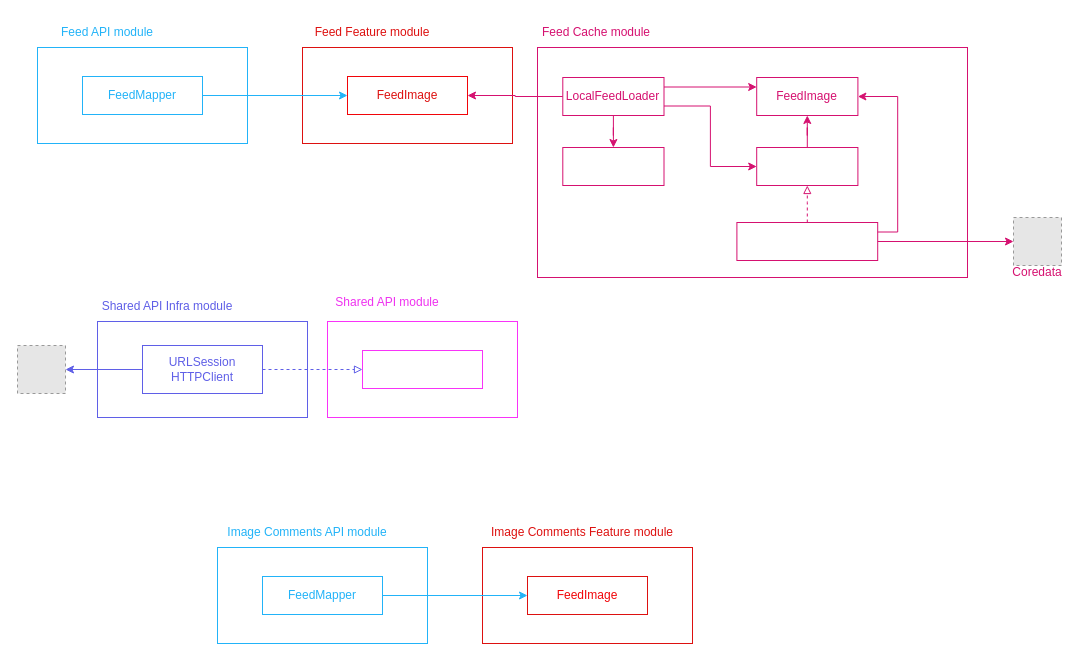
This 1085x661 diagram has some shape labels left out. Grey dashed boxes stand in for pictures. The centre of each missing label's shape, as x and y in pixels:
<FeedStore>: point (807, 166)
<HTTPClient>: point (422, 369)
CoreDataFeedStore: point (807, 241)
FeedCachePolicy: point (613, 166)
